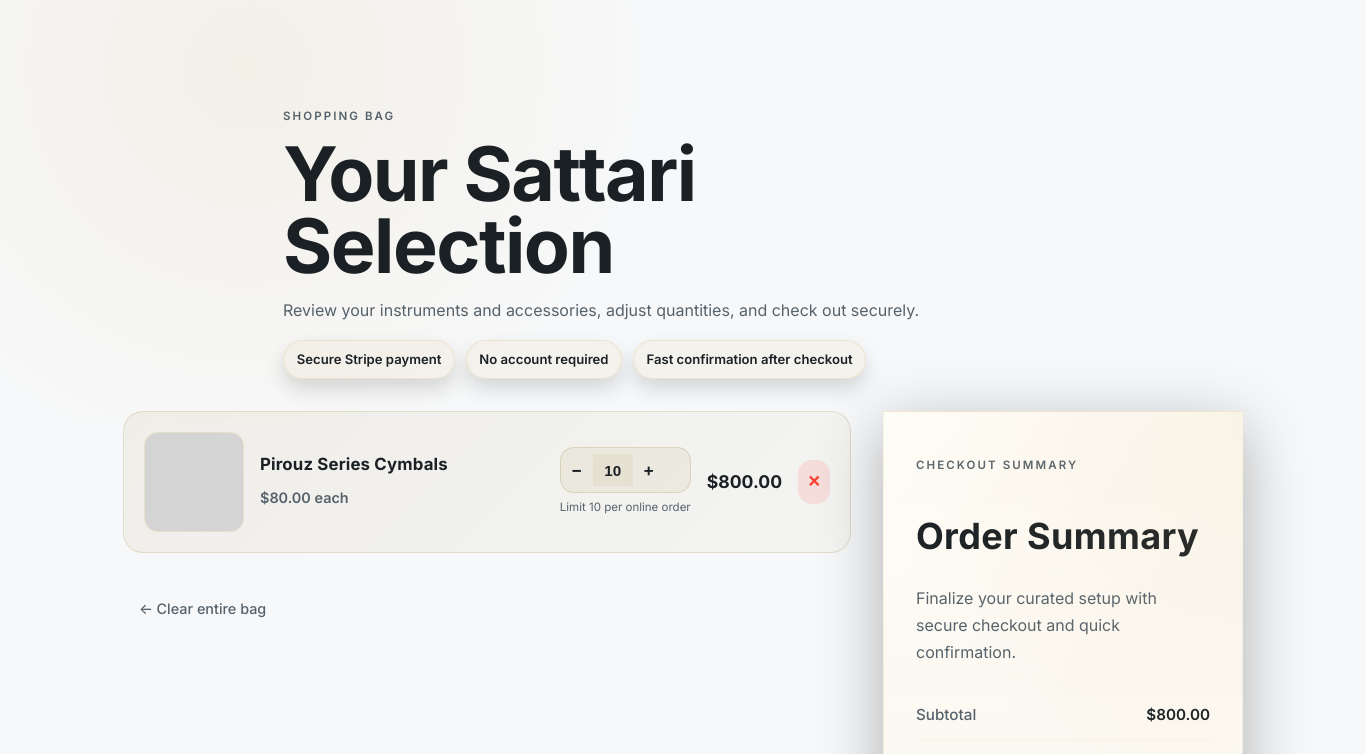
Test: stops at the 10 checkout accepts for one item, and says so on that line
The image size is (1366, 754).
Expected: the number field named "Quantity for Pirouz Series Cymbals" holds "10", [593,454,633,486]
Expected: the button named "Increase quantity" is disabled, [633,448,665,492]
Step 1. Click the button named "Decrease quantity" → (577, 470), box [561,448,593,492]
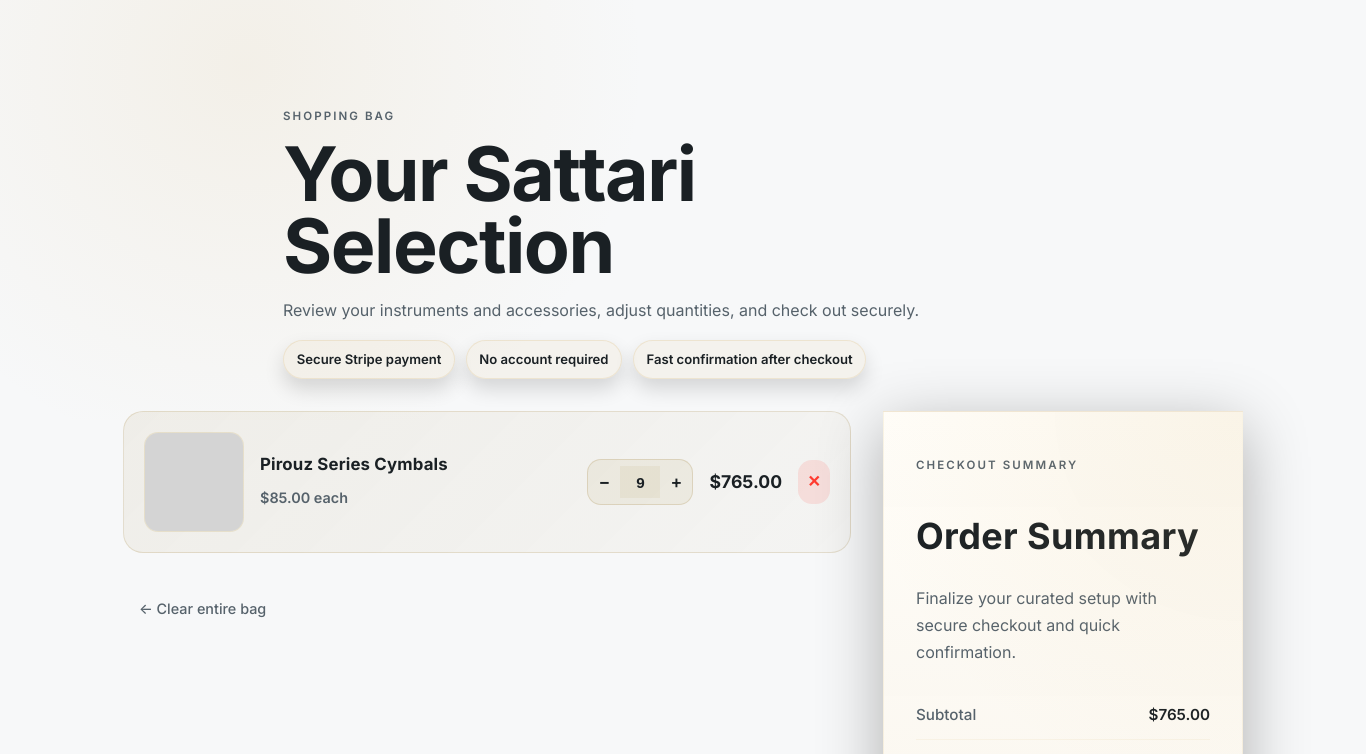
Result: the number field named "Quantity for Pirouz Series Cymbals" holds "9" at [620,466,660,498]
Result: the text "Limit 10 per online order" is gone
